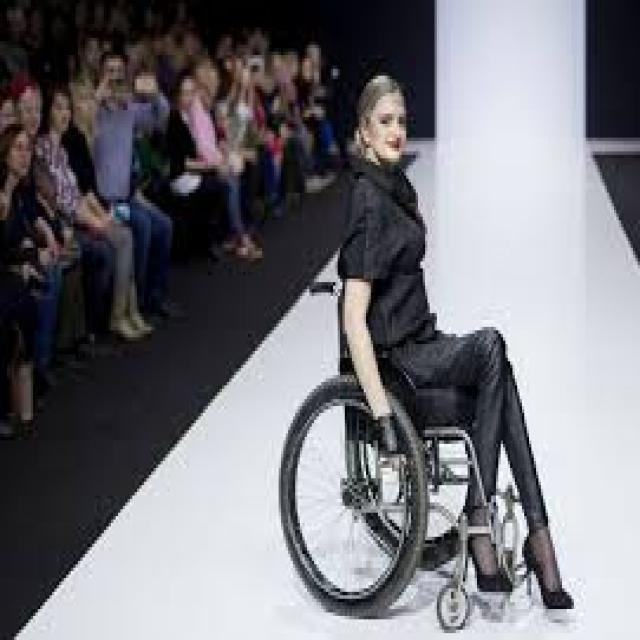wheelchair: (281, 70, 575, 626)
